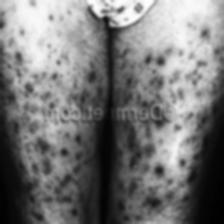Toxin: (114, 124, 209, 218), (0, 22, 94, 104), (119, 34, 210, 104), (17, 128, 90, 214)
